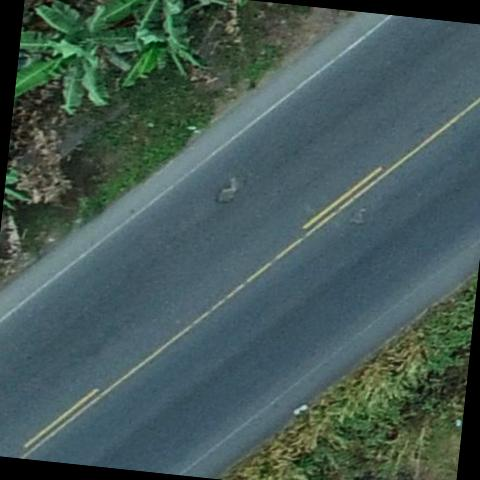Banana-plant: (12, 0, 148, 125), (88, 0, 214, 89)
